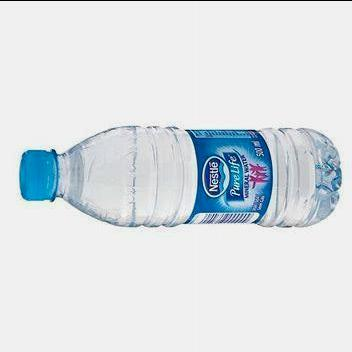bottle: (14, 125, 342, 228)
